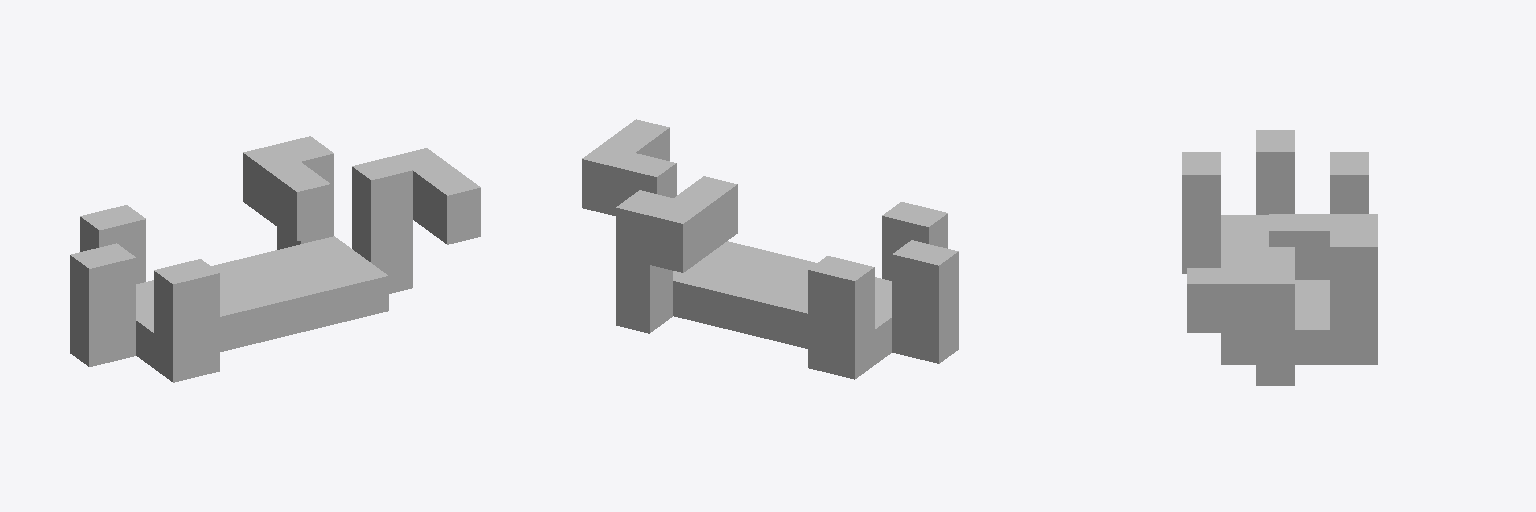
3 renders of one model, left to right at view 1: azimuth 30°, elevation 25°; view 2: azimuth 150°, elevation 25°; view 3: azimuth 270°, elevation 25°, orthographic.
Parts seen in each view (by area): view 1: mesh_1_Thick-4.001; view 2: mesh_1_Thick-4.001; view 3: mesh_1_Thick-4.001.
Part boxes in pixels (left/top/right/bottom): mesh_1_Thick-4.001: left=70, top=136, right=480, bottom=382; mesh_1_Thick-4.001: left=582, top=119, right=958, bottom=379; mesh_1_Thick-4.001: left=1182, top=130, right=1377, bottom=385.
Size of the model in its own units: 0.19 by 0.06 by 0.09.